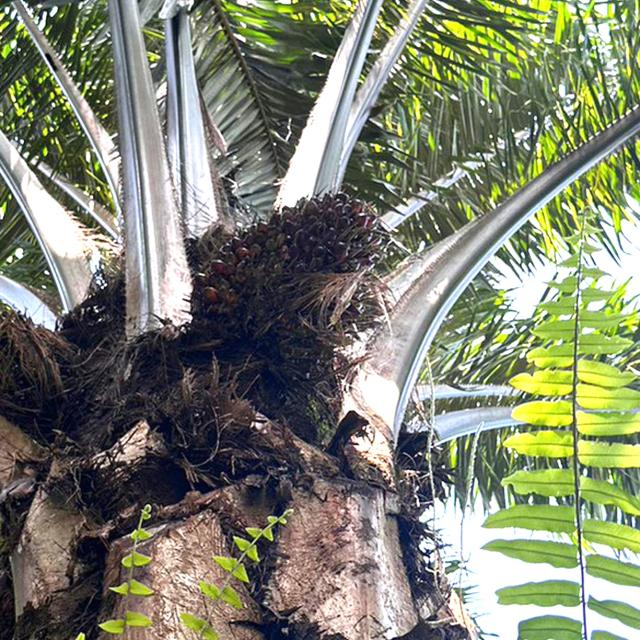ripe: (184, 171, 405, 378)
